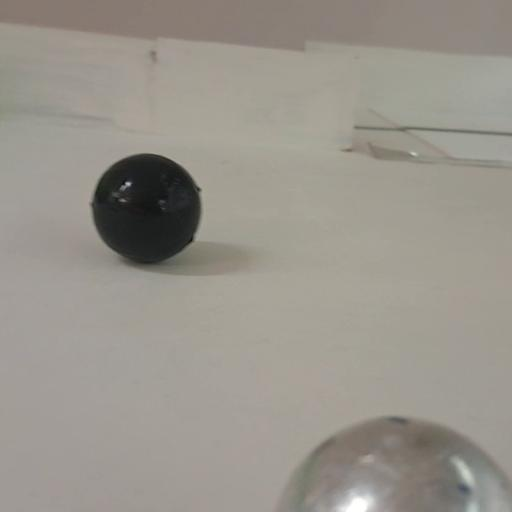alive: (276, 413, 512, 512)
dead: (89, 154, 205, 270)
